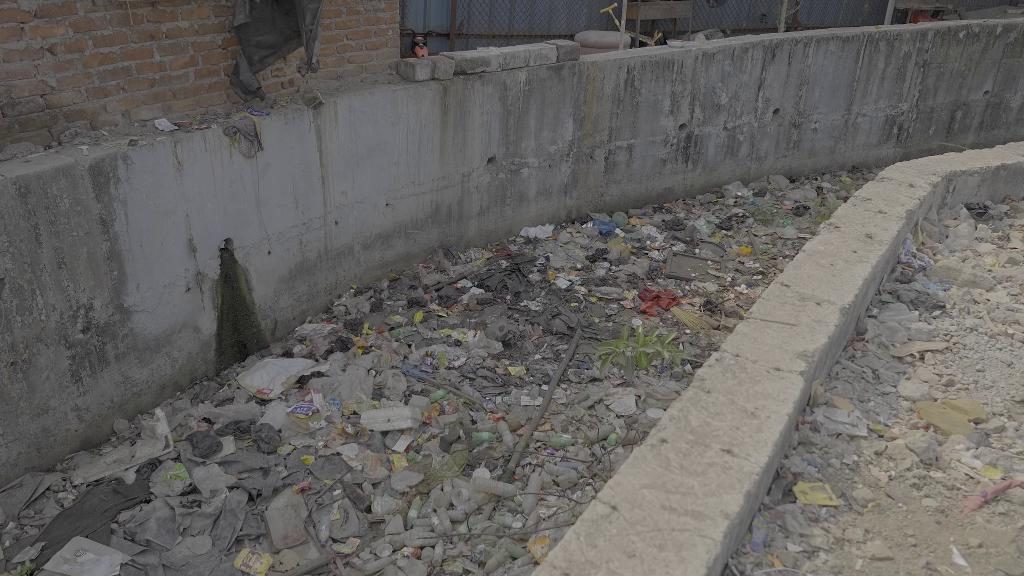garbage: (906, 394, 992, 442), (240, 348, 311, 396), (637, 283, 689, 323), (481, 262, 530, 298), (191, 466, 241, 495), (792, 478, 839, 508), (473, 473, 521, 501), (229, 546, 275, 575), (519, 470, 543, 518), (590, 214, 624, 240), (403, 490, 423, 533), (965, 202, 997, 225), (282, 401, 322, 418), (315, 513, 333, 550), (150, 117, 182, 135), (722, 182, 753, 200), (469, 431, 503, 445), (922, 279, 953, 293), (792, 203, 813, 218), (583, 369, 607, 380)
